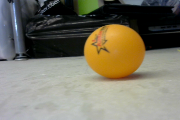PingPongBall: (85, 24, 145, 79)
